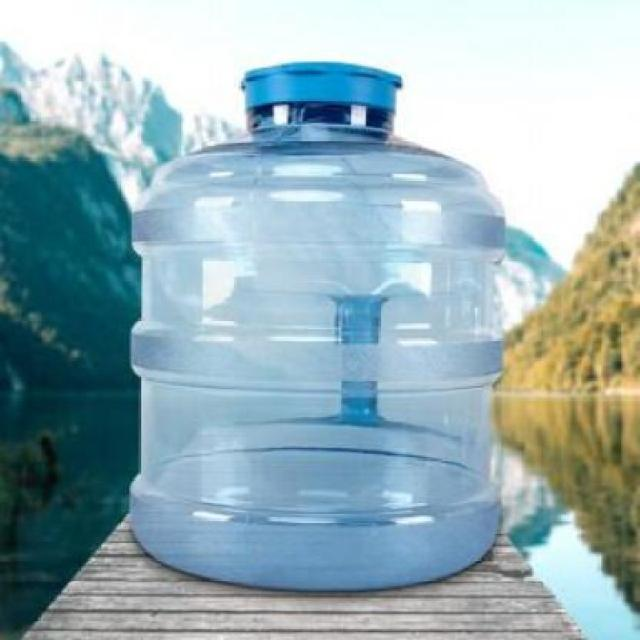coolerbottle: (119, 57, 513, 598)
